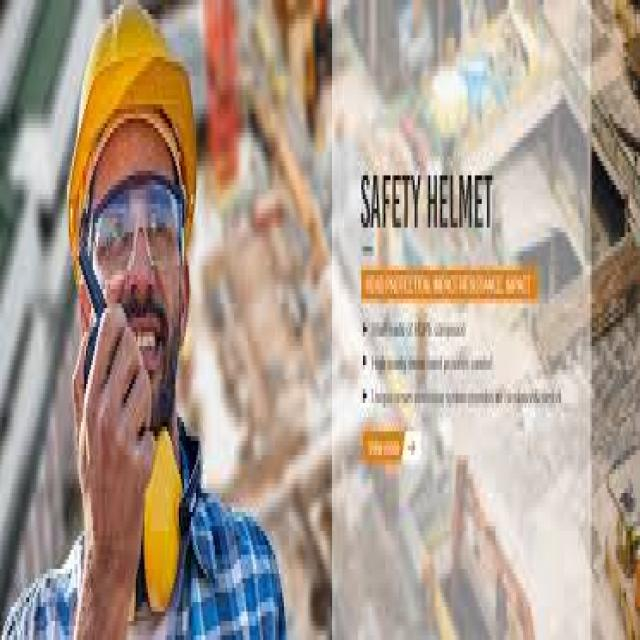glasses: (93, 176, 182, 289)
